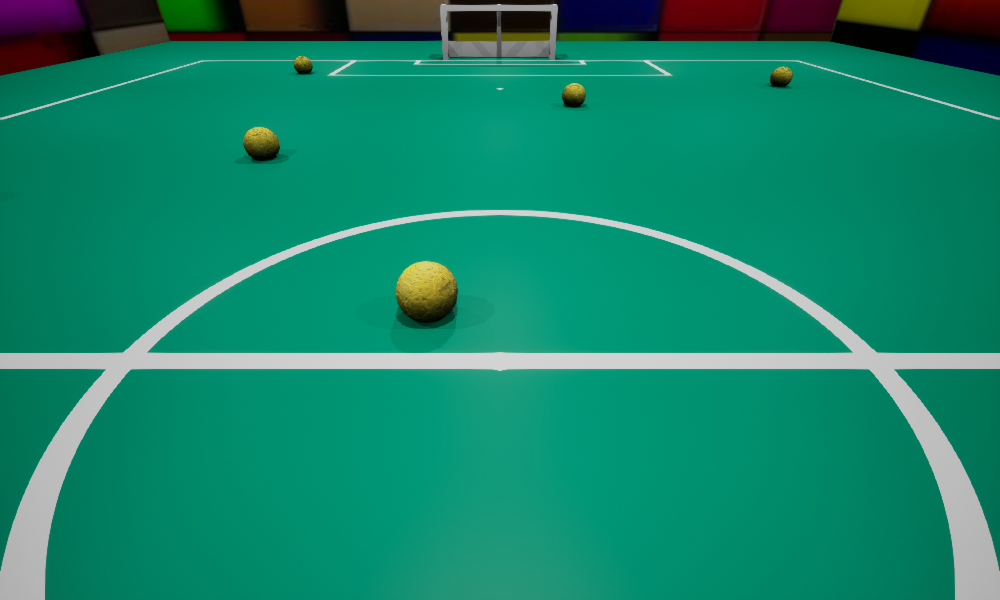b: (396, 261, 457, 321), (243, 127, 279, 159), (562, 83, 585, 106), (770, 66, 792, 86), (294, 56, 312, 73)
g: (440, 4, 557, 59)
